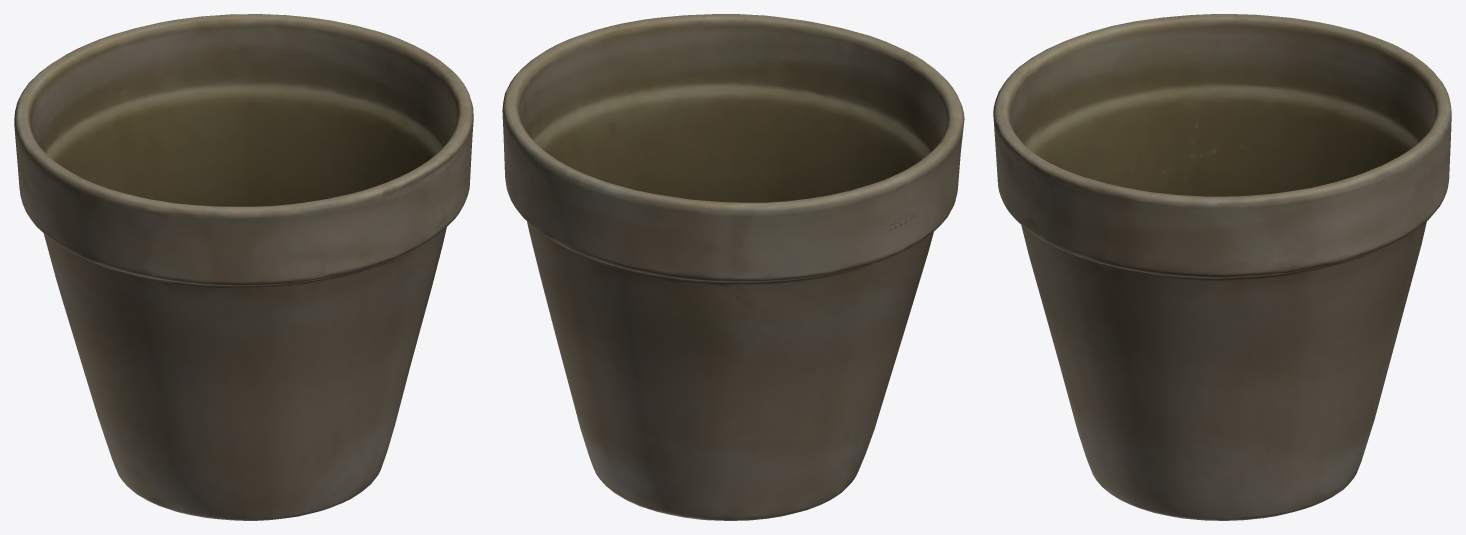
Rendered from Cole_Hardware_Flower_Pot_1025.glb.
3 renders of one model, left to right at view 1: azimuth 30°, elevation 25°; view 2: azimuth 150°, elevation 25°; view 3: azimuth 270°, elevation 25°, orthographic.
Visible parts, largest first — view 1: Cole_Hardware_Flower_Pot_1025; view 2: Cole_Hardware_Flower_Pot_1025; view 3: Cole_Hardware_Flower_Pot_1025.
Part boxes in pixels (box(x1,y1,x2,y2)): Cole_Hardware_Flower_Pot_1025: box(14, 14, 473, 520); Cole_Hardware_Flower_Pot_1025: box(502, 14, 964, 520); Cole_Hardware_Flower_Pot_1025: box(993, 14, 1451, 520).
Bounding box in the file's own units: 0.2499 × 0.2168 × 0.2467.
1 material, 1 textured.
